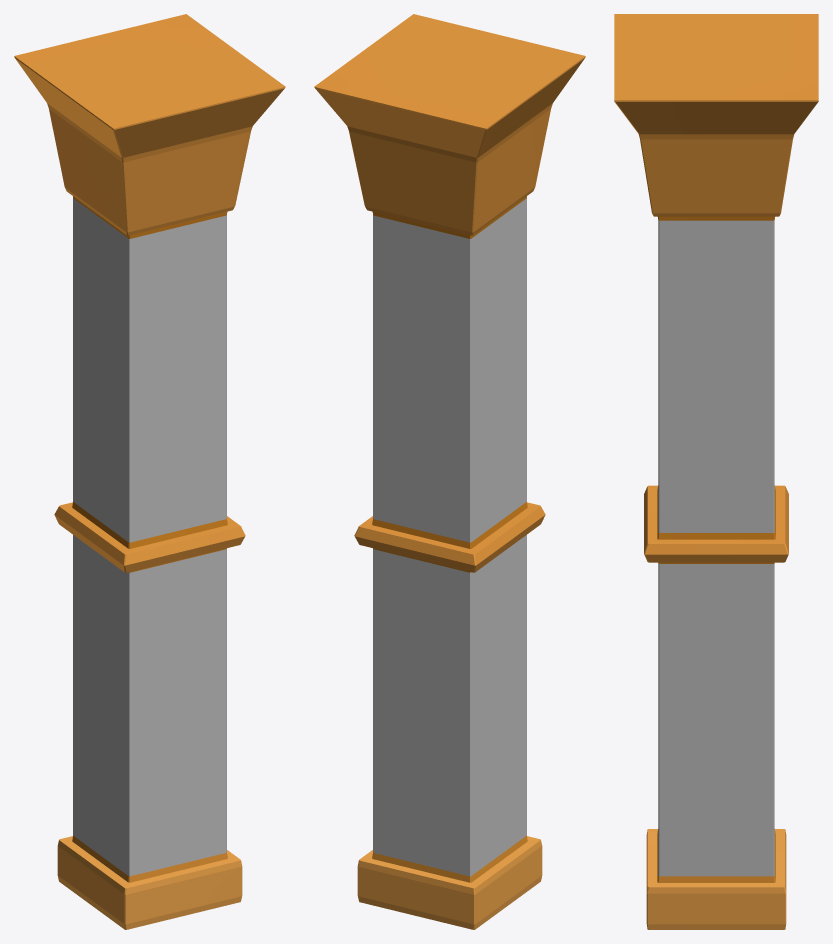
Rendered from FancyPillar.glb.
3 renders of one model, left to right at view 1: azimuth 30°, elevation 25°; view 2: azimuth 150°, elevation 25°; view 3: azimuth 270°, elevation 25°, orthographic. The views are drawn at different scales.
Parts seen in each view (by area): view 1: fancy_pillar; view 2: fancy_pillar; view 3: fancy_pillar.
Part boxes in pixels (x1=…): fancy_pillar: x1=14, y1=14, x2=285, y2=929; fancy_pillar: x1=314, y1=14, x2=585, y2=929; fancy_pillar: x1=614, y1=14, x2=818, y2=929.
Size of what is drawn, in the model's own units: 0.8795 by 4 by 0.8795.
Materials: 1 (1 with a texture image).
